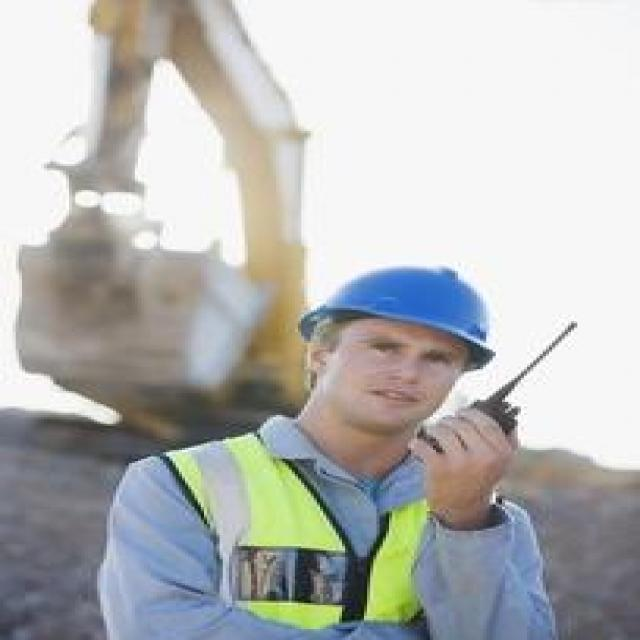Reflective-Jacket: (144, 430, 502, 640)
Safety-Helmet: (286, 258, 505, 360)
